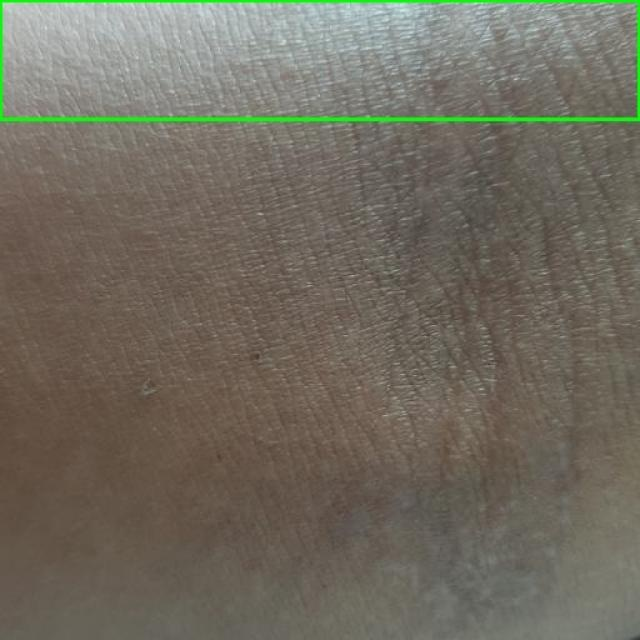Atopic Dermatitis: (0, 0, 639, 119)
